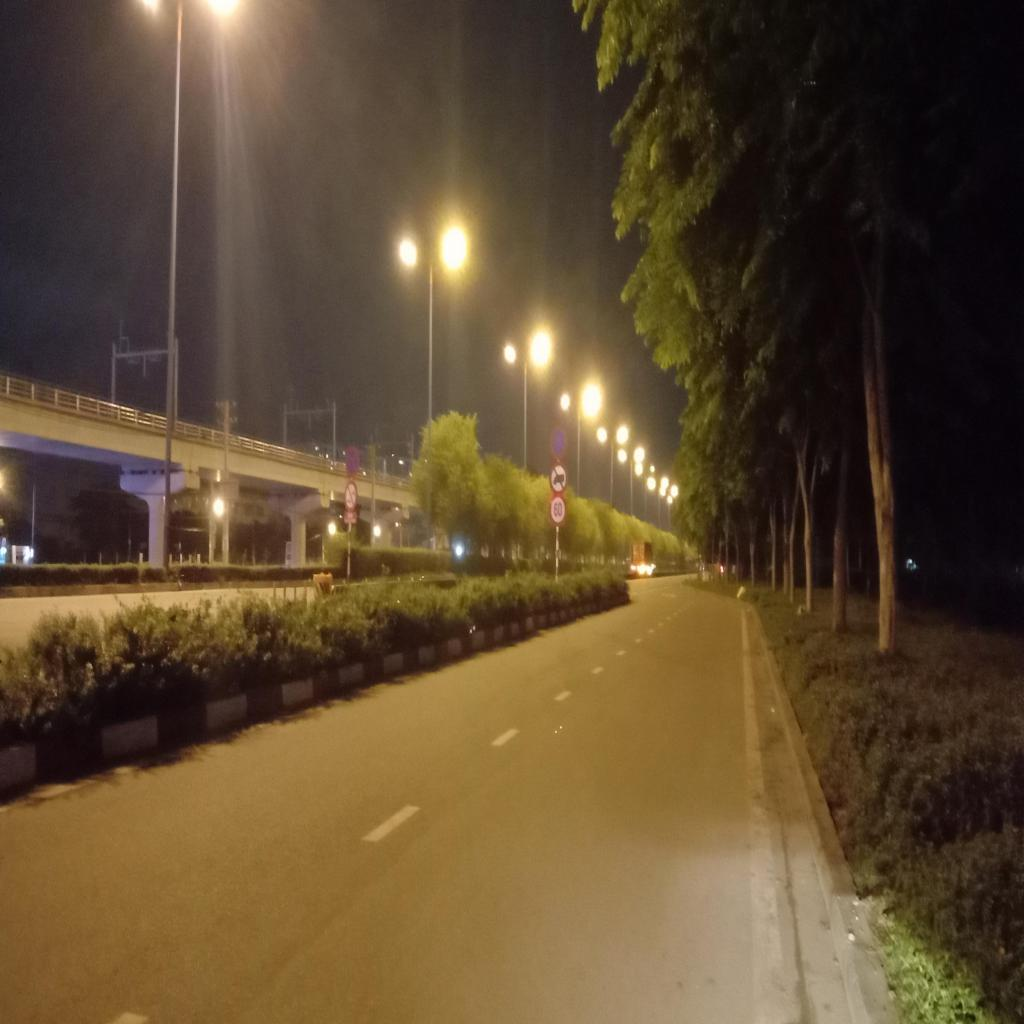cam_dung_xe_va_do_xe: (549, 425, 568, 463), (343, 444, 362, 480)
cam_o_to_tai: (548, 460, 569, 497)
cam_xe_2_banh_va_xe_3_banh_co_dong_co: (343, 480, 359, 513)
toc_do_toi_da_60: (547, 490, 569, 529)
